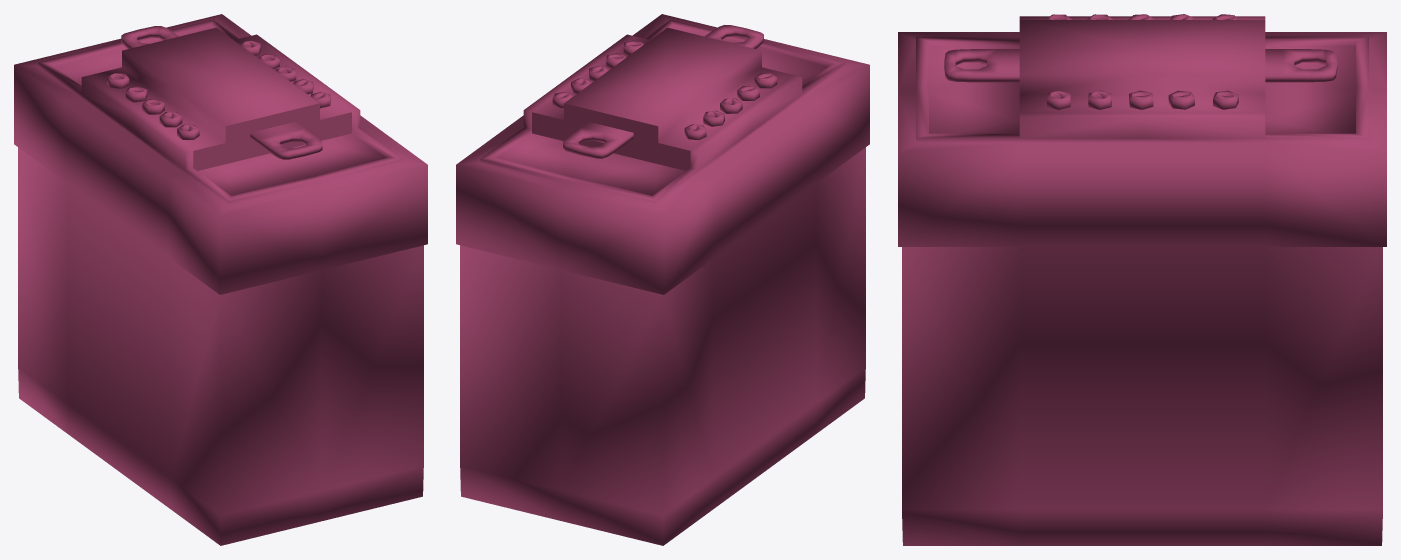
The model's file is Battery_Model_1.fbx.
3 renders of one model, left to right at view 1: azimuth 30°, elevation 25°; view 2: azimuth 150°, elevation 25°; view 3: azimuth 270°, elevation 25°, orthographic. The views are drawn at different scales.
Parts seen in each view (by area): view 1: Bat1; view 2: Bat1; view 3: Bat1.
Part boxes in pixels (left/top/right/bottom): Bat1: left=14, top=14, right=427, bottom=545; Bat1: left=456, top=14, right=869, bottom=545; Bat1: left=898, top=14, right=1386, bottom=545.
Bounding box in the file's own units: 351 × 599 × 603.
